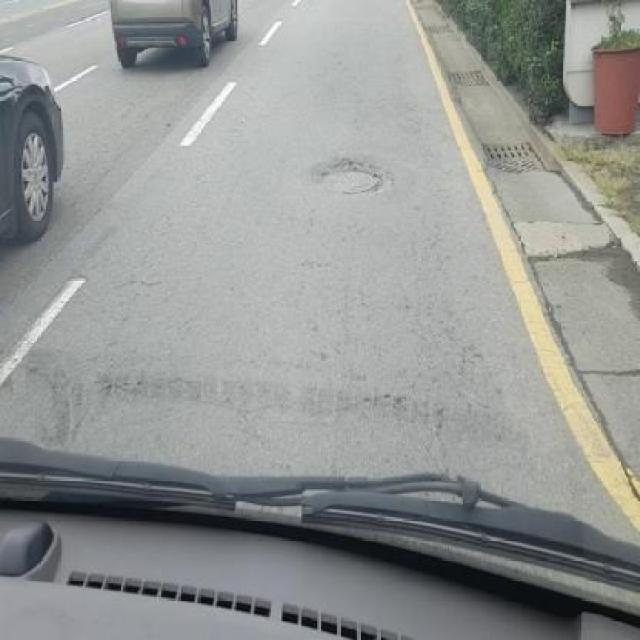Manhole: (308, 157, 394, 197), (480, 138, 546, 174), (441, 65, 494, 90), (423, 20, 465, 46)
